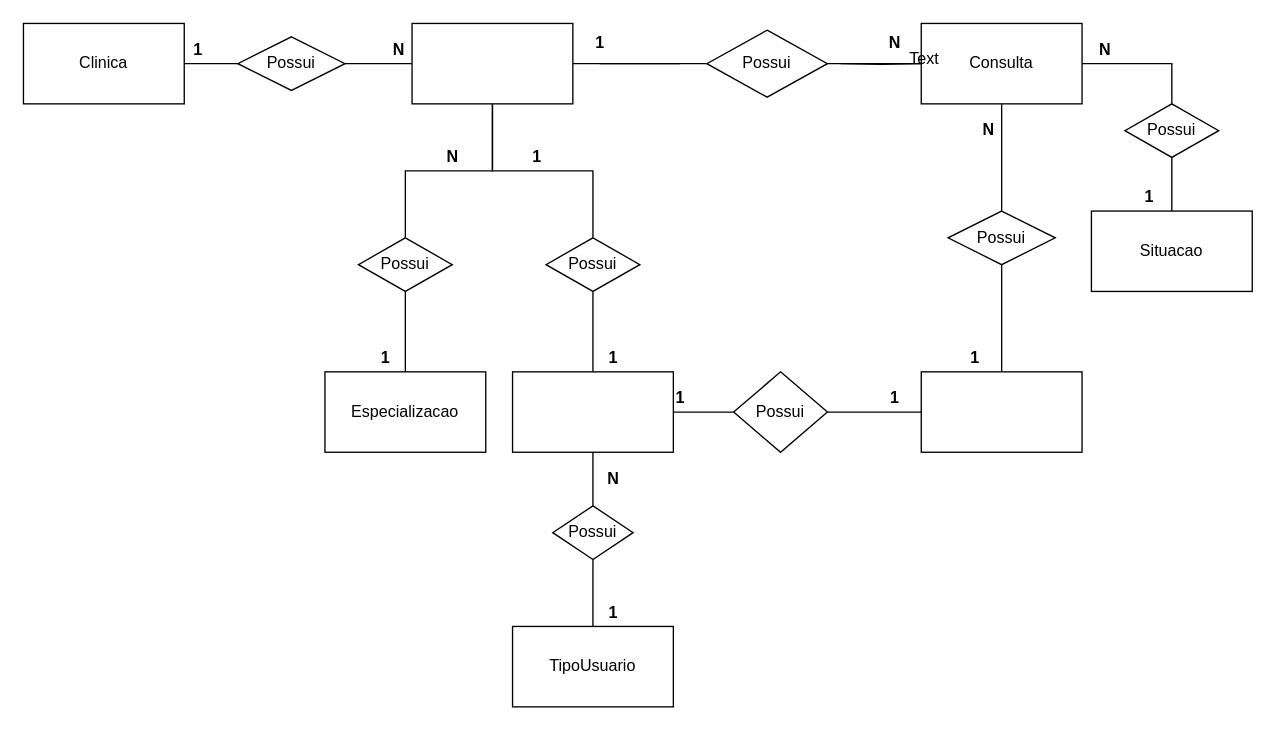
This 1276x730 diagram has some shape labels left out. The centre of each missing label's shape, as x and y in pixels:
Medico: point 492,63
Prontuário: point 1001,411
Usuario: point 592,411
